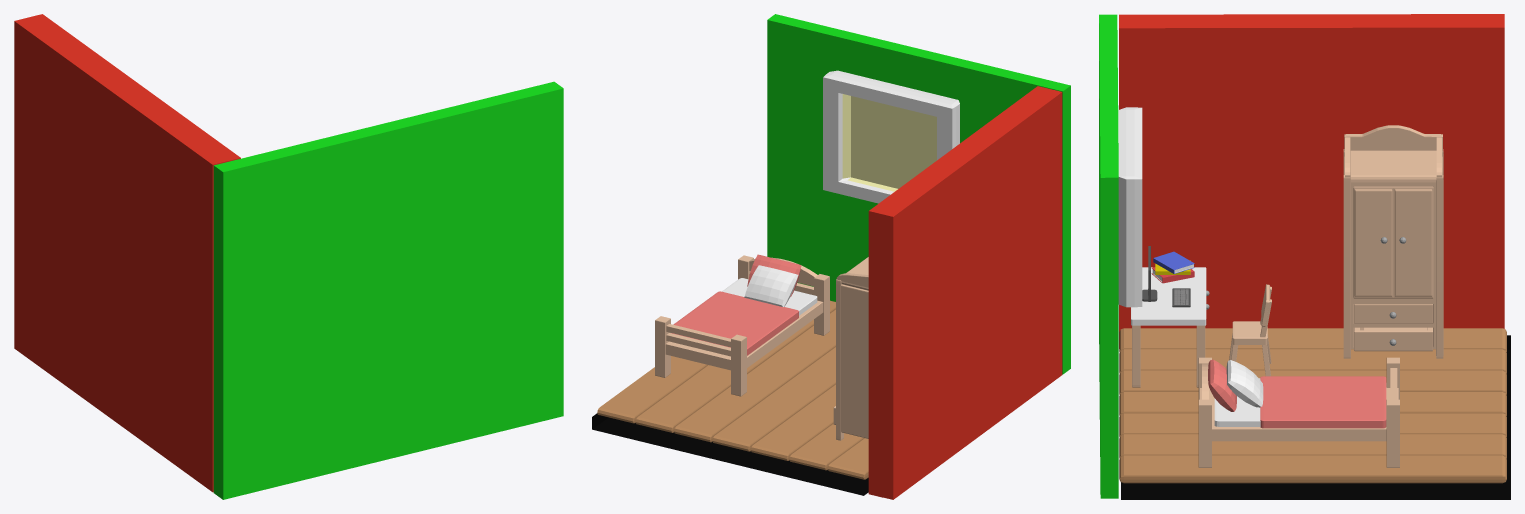
File: bedroom.glb
The picture shows the model from 3 angles, left to right: view 1: azimuth 30°, elevation 25°; view 2: azimuth 150°, elevation 25°; view 3: azimuth 270°, elevation 25°; orthographic projection. The views are drawn at different scales.
Visible parts, largest first — view 1: Plane, Plane.001; view 2: Plane.001, Plane, Wood floor, Picture 2, Bed, Wardrobe, Plane.002; view 3: Plane.001, Wood floor, Wardrobe, Bed, Plane, Plane.002, Picture 2, Table, Chair, Book stack 1.
Boxes of the visible parts, x1,y1,x2,y2 form: Plane: (213, 81, 563, 499); Plane.001: (14, 14, 240, 492); Plane.001: (868, 86, 1062, 499); Plane: (767, 14, 1070, 374); Wood floor: (597, 300, 868, 479); Picture 2: (823, 70, 959, 203); Bed: (655, 254, 829, 396); Wardrobe: (833, 257, 868, 440); Plane.002: (592, 413, 868, 495); Plane.001: (1119, 14, 1504, 348); Wood floor: (1119, 328, 1506, 483); Wardrobe: (1343, 125, 1443, 358); Bed: (1198, 357, 1399, 467); Plane: (1099, 14, 1118, 498); Plane.002: (1121, 335, 1510, 499); Picture 2: (1118, 107, 1142, 307); Table: (1131, 267, 1209, 387); Chair: (1229, 284, 1271, 376); Book stack 1: (1151, 251, 1194, 283).
Bounding box in the file's own units: 8.84 × 8.02 × 9.32.
